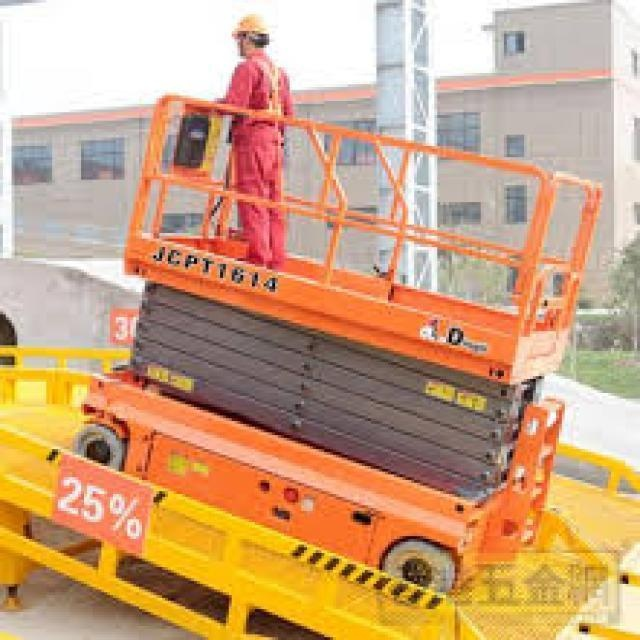Arnes_seguridad: (254, 55, 281, 113)
